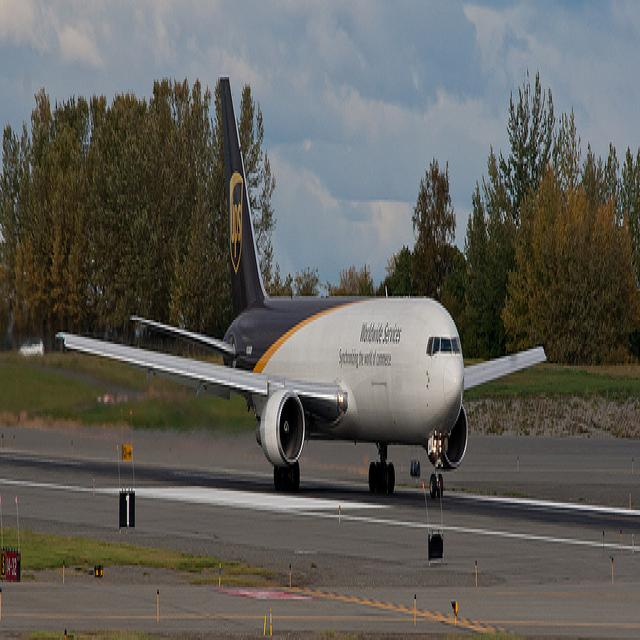airplane: (54, 74, 548, 502)
